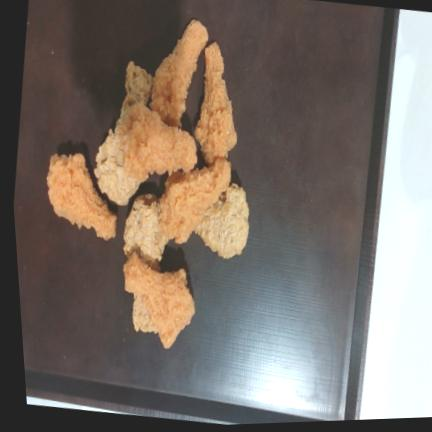chicken: (94, 61, 151, 205), (124, 253, 194, 348), (159, 158, 231, 243), (150, 19, 207, 125), (47, 153, 116, 239), (194, 42, 236, 165), (127, 107, 196, 178), (194, 183, 249, 258), (123, 193, 168, 270), (132, 295, 156, 332)
